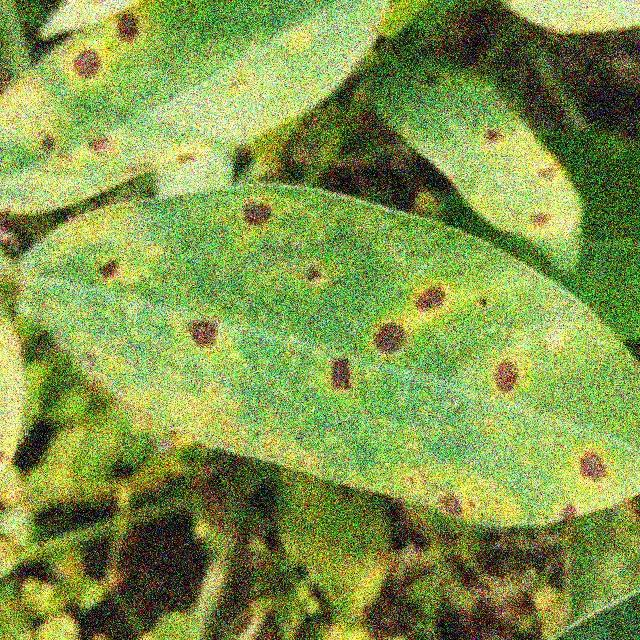leaf_spot: (14, 199, 639, 549), (4, 3, 403, 173)
